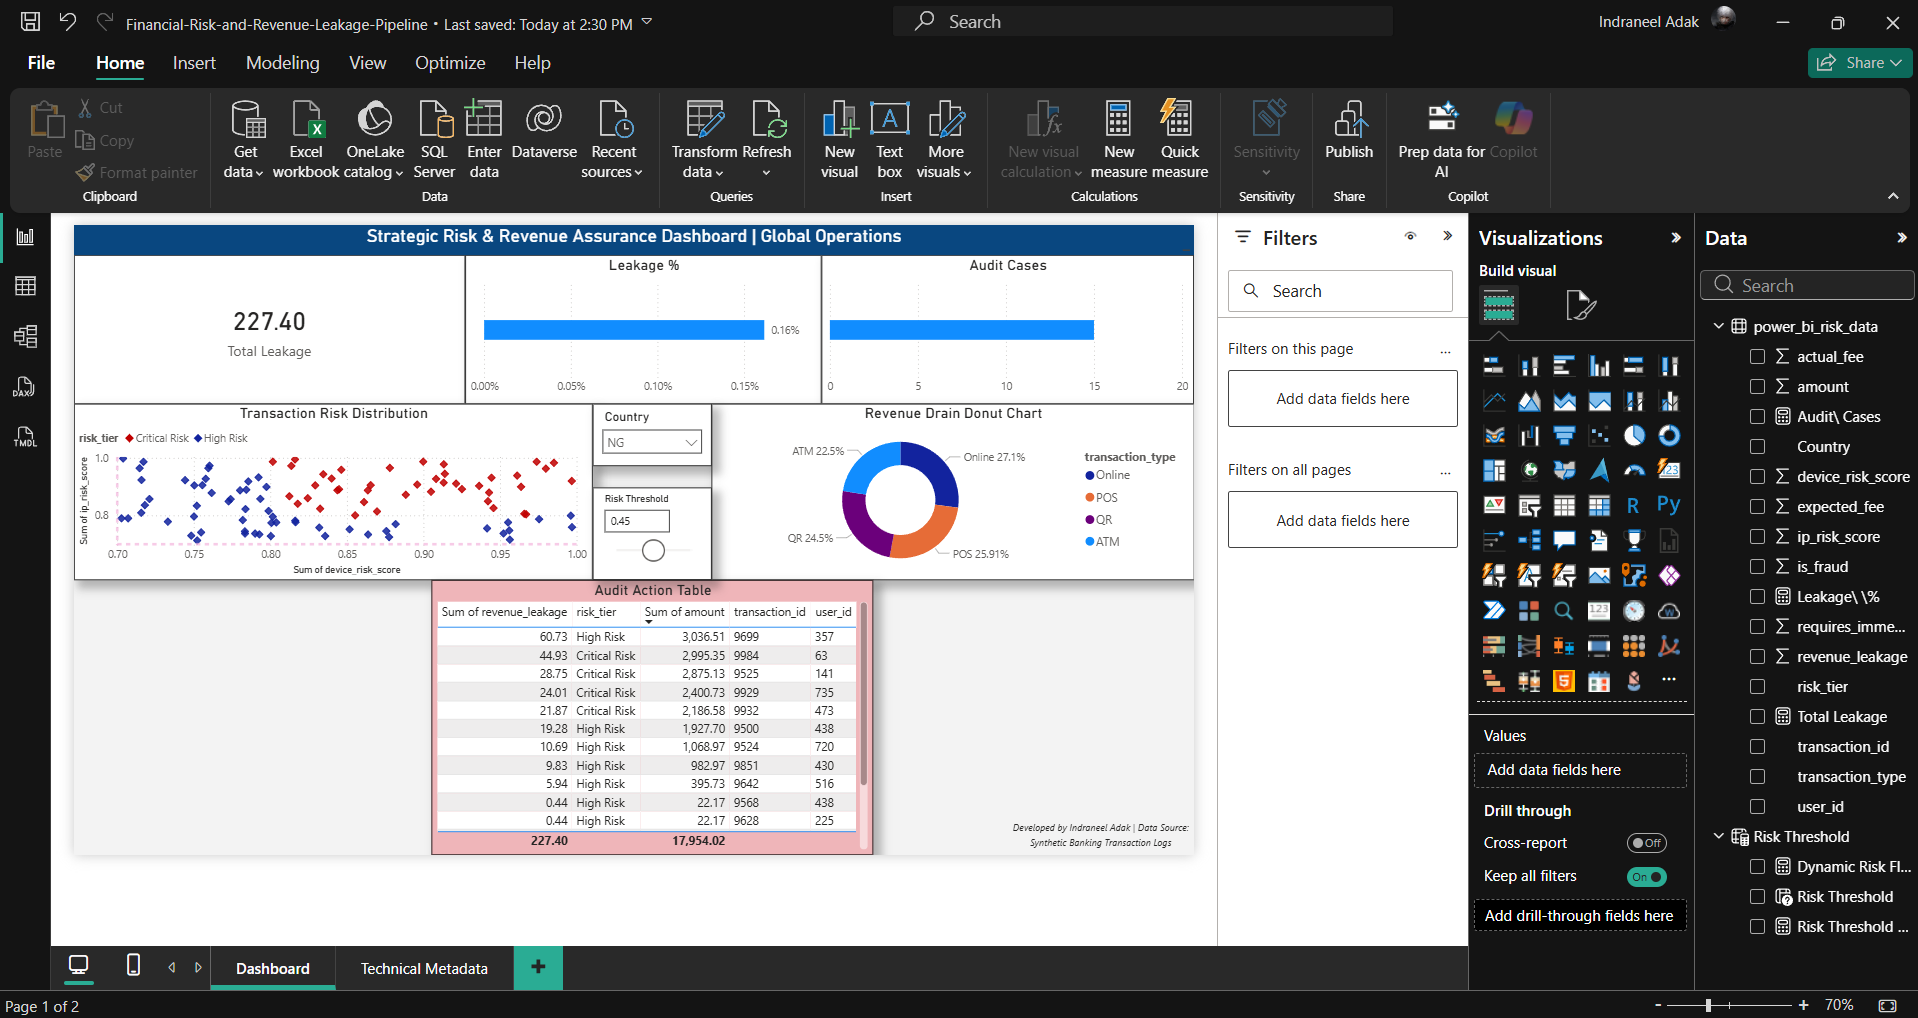

The dashboard page shown, as its layout file describes it:
{"tool":"powerbi","page":{"name":"Dashboard","canvas":[1280,720],"ordinal":0},"visuals":[{"type":"card","fields":{"Values":["power_bi_risk_data.Total Leakage"]},"box":[0,33.9,447.3,170.2],"z":0},{"type":"clusteredBarChart","title":"Leakage %","fields":{"Y":["power_bi_risk_data.Leakage\\ \\%"]},"box":[447.3,33.9,407.5,170.2],"z":1000},{"type":"clusteredBarChart","title":"Audit Cases","fields":{"Y":["power_bi_risk_data.Audit\\ Cases"]},"box":[854.9,34.3,425.4,170.2],"z":2000},{"type":"donutChart","title":"Revenue Drain Donut Chart","fields":{"Category":["power_bi_risk_data.transaction_type"],"Y":["power_bi_risk_data.Total Leakage"]},"box":[728.6,204.5,551.6,201.7],"z":3000},{"type":"scatterChart","title":"Transaction Risk Distribution","fields":{"X":["Sum(power_bi_risk_data.device_risk_score)"],"Y":["Sum(power_bi_risk_data.ip_risk_score)"],"Series":["power_bi_risk_data.risk_tier"],"Category":["power_bi_risk_data.transaction_id"]},"box":[0,204.5,592.8,201.7],"z":4000},{"type":"tableEx","title":"Audit Action Table","fields":{"Values":["Sum(power_bi_risk_data.revenue_leakage)","power_bi_risk_data.risk_tier","Sum(power_bi_risk_data.amount)","power_bi_risk_data.transaction_id","power_bi_risk_data.user_id"]},"box":[408.9,406.2,505,314.2],"z":5000},{"type":"slicer","fields":{"Values":["power_bi_risk_data.country"]},"box":[592.8,204,135.8,71.4],"z":6000},{"type":"slicer","fields":{"Values":["Risk Threshold.Risk Threshold"]},"box":[592.8,300.1,135.8,105.7],"z":7000},{"type":"textbox","title":"Strategic Risk & Revenue Assurance Dashboard | Global Operations","box":[0,0,1280.3,34.3],"z":8000},{"type":"textbox","box":[1067.6,672.4,212.7,48],"z":9000}]}

Visuals, with their boxes on the page's 1280x720 design canvas (x1, y1, x2, y2). These are canvas units, not pixel positions in the 1918x1018 screenshot, which may show the page scaled, cropped or inside an application window:
card - power_bi_risk_data.Total Leakage: x1=0, y1=34, x2=447, y2=204
"Leakage %" clusteredBarChart: x1=447, y1=34, x2=855, y2=204
"Audit Cases" clusteredBarChart: x1=855, y1=34, x2=1280, y2=204
"Revenue Drain Donut Chart" donutChart: x1=729, y1=204, x2=1280, y2=406
"Transaction Risk Distribution" scatterChart: x1=0, y1=204, x2=593, y2=406
"Audit Action Table" tableEx: x1=409, y1=406, x2=914, y2=720
slicer - power_bi_risk_data.country: x1=593, y1=204, x2=729, y2=275
slicer - Risk Threshold.Risk Threshold: x1=593, y1=300, x2=729, y2=406
"Strategic Risk & Revenue Assurance Dashboard | Global Operations" textbox: x1=0, y1=0, x2=1280, y2=34
textbox: x1=1068, y1=672, x2=1280, y2=720
